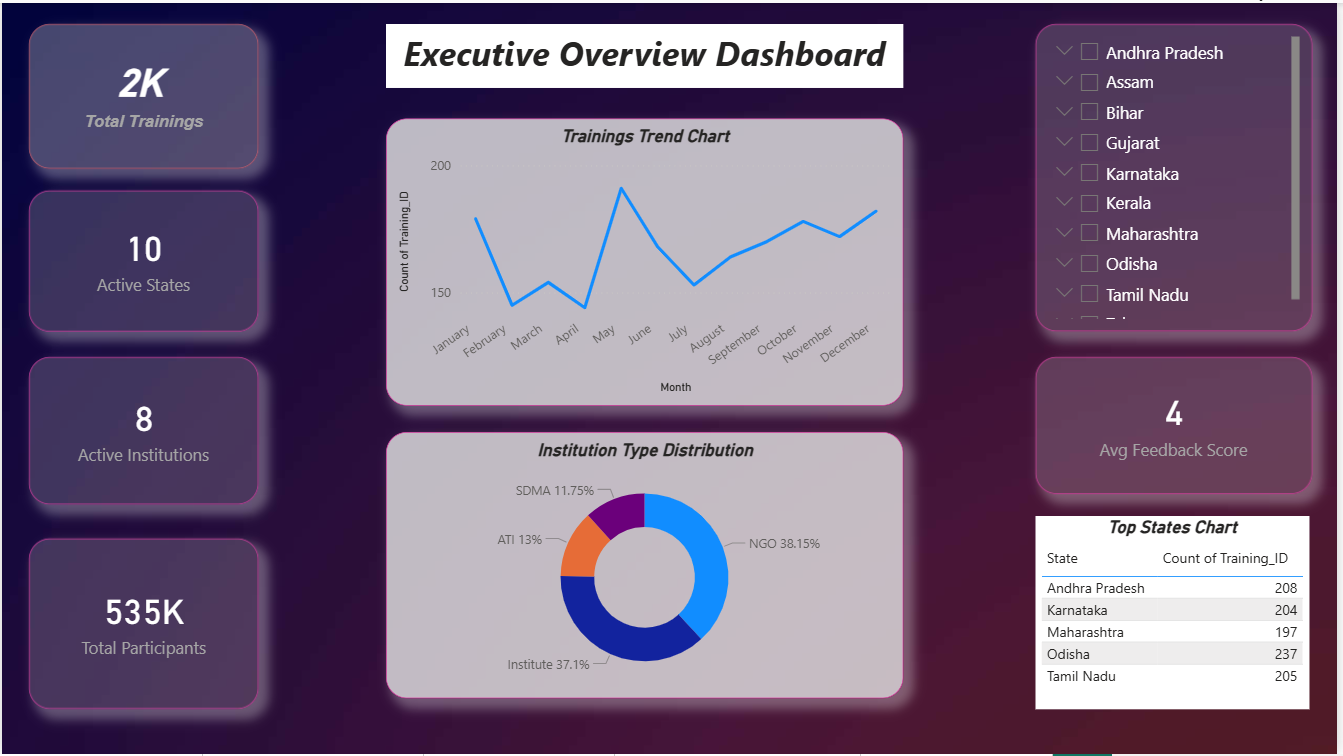

Layout of this report page (visuals, bound fields, positions):
{"tool":"powerbi","page":{"name":"Executive Overview","canvas":[1280,720],"ordinal":0},"visuals":[{"type":"advanceCardE03760C5AB684758B56AA29F9E6C257B","fields":{"mainMeasure":["CountNonNull(Training_Data.Training_ID)"]},"box":[26.2,20.4,220.1,138.5],"z":0},{"type":"advanceCardE03760C5AB684758B56AA29F9E6C257B","fields":{"mainMeasure":["Training_Data.Total Participants"]},"box":[26.2,513.2,220.1,163.3],"z":1000},{"type":"advanceCardE03760C5AB684758B56AA29F9E6C257B","fields":{"mainMeasure":["Training_Data.Active States"]},"box":[26.2,179.3,220.1,135.6],"z":2000},{"type":"advanceCardE03760C5AB684758B56AA29F9E6C257B","fields":{"mainMeasure":["Training_Data.Active Institutions"]},"box":[26.2,339.7,220.1,141.4],"z":3000},{"type":"advanceCardE03760C5AB684758B56AA29F9E6C257B","fields":{"mainMeasure":["Feedback_Data.Avg Feedback Score"]},"box":[991.3,339.7,265.3,131.2],"z":4000},{"type":"lineChart","title":"Trainings Trend Chart","fields":{"Category":["Training_Data.Date.Variation.Date Hierarchy.Month"],"Y":["CountNonNull(Training_Data.Training_ID)"]},"box":[368.8,110.8,495.7,275.5],"z":5000},{"type":"tableEx","title":"Top States Chart","fields":{"Values":["Training_Data.State","Training_Data.Count of Training_ID"]},"box":[991.3,491.3,262.4,185.1],"z":6000},{"type":"donutChart","title":"Institution Type Distribution","fields":{"Category":["Training_Data.Institution_Type"],"Y":["Training_Data.Count of Training_ID"]},"box":[368.8,411.1,495.7,255.1],"z":7000},{"type":"textbox","box":[368.8,20.4,495.7,61.2],"z":8000},{"type":"slicer","fields":{"Values":["Training_Data.State","Training_Data.District","Training_Data.Disaster_Theme","Training_Data.Institution_Type","Training_Data.Date","Training_Data.Venue_Type"]},"box":[991.3,20.4,265.3,294.5],"z":9000}]}

Visuals, with their boxes in screenshot pixels (x1, y1, x2, y2), scaled from the page's 1280x720 canvas onto the 1343x756 screenshot:
advanceCardE03760C5AB684758B56AA29F9E6C257B - CountNonNull(Training_Data.Training_ID): 27, 21, 258, 167
advanceCardE03760C5AB684758B56AA29F9E6C257B - Training_Data.Total Participants: 27, 539, 258, 710
advanceCardE03760C5AB684758B56AA29F9E6C257B - Training_Data.Active States: 27, 188, 258, 331
advanceCardE03760C5AB684758B56AA29F9E6C257B - Training_Data.Active Institutions: 27, 357, 258, 505
advanceCardE03760C5AB684758B56AA29F9E6C257B - Feedback_Data.Avg Feedback Score: 1040, 357, 1318, 494
"Trainings Trend Chart" lineChart: 387, 116, 907, 406
"Top States Chart" tableEx: 1040, 516, 1315, 710
"Institution Type Distribution" donutChart: 387, 432, 907, 700
textbox: 387, 21, 907, 86
slicer - Training_Data.State x Training_Data.District: 1040, 21, 1318, 331
